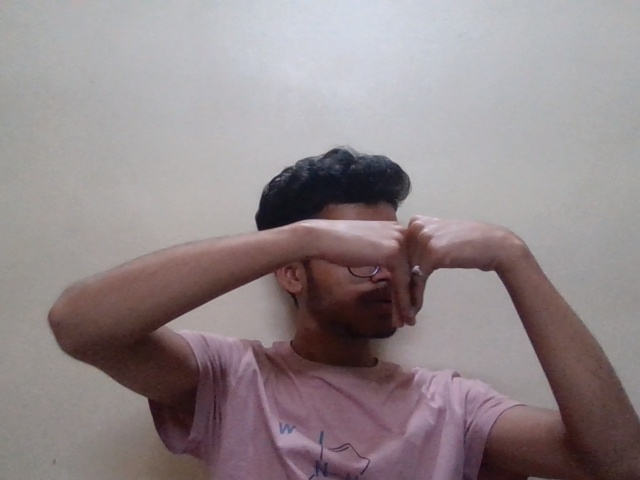yesterday: (314, 209, 512, 347)
